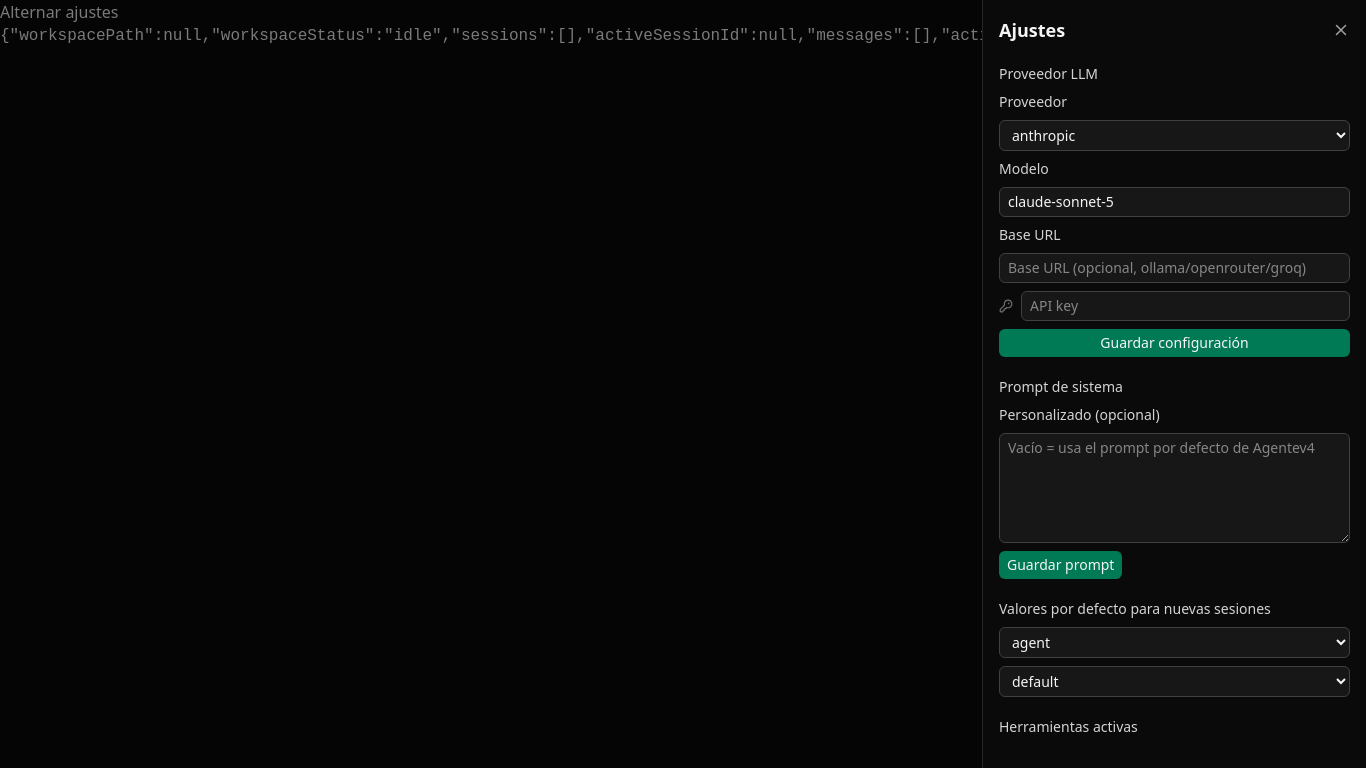
Test: provider settings save flow › keeps the draft and allows a retry when saving fails
Replace the text in the field labelled "Modelo" with "model-under-test" at [1174, 202], box [999,187,1350,217]
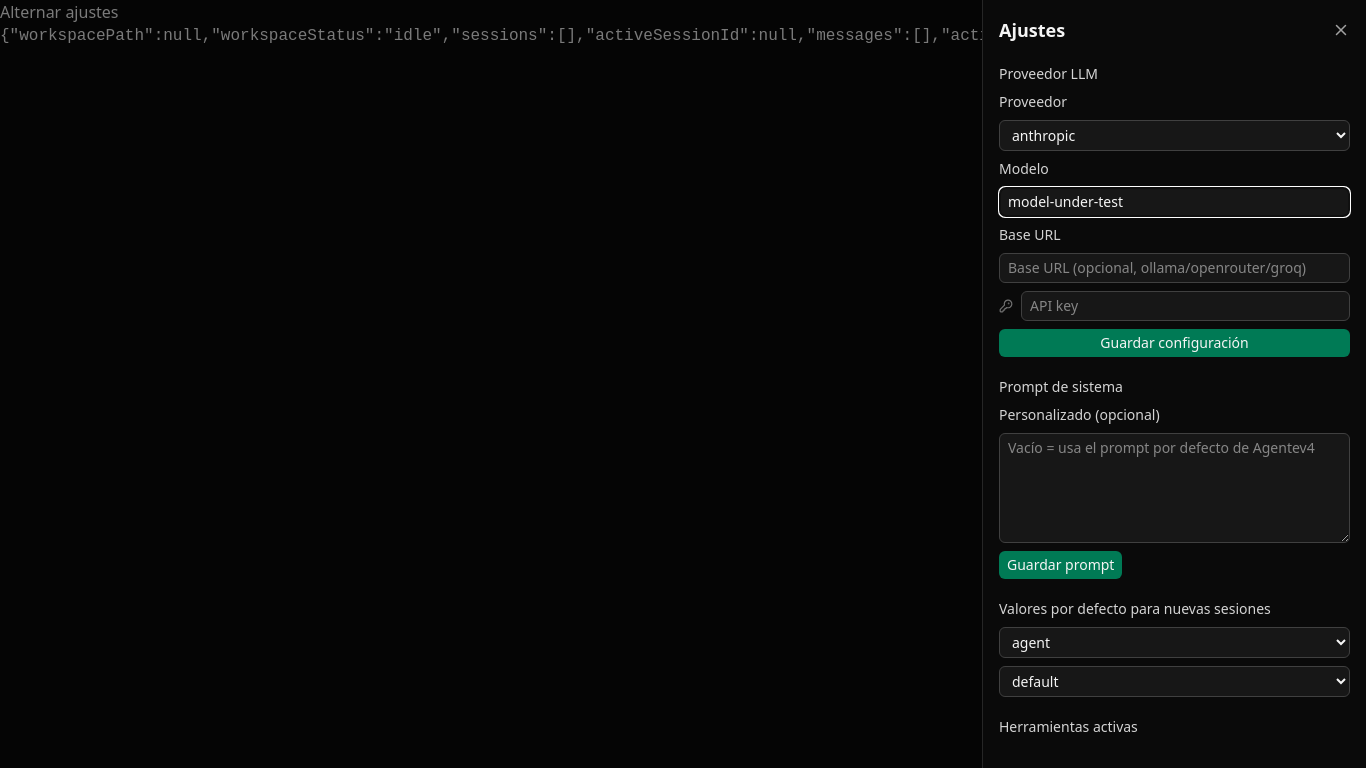
Click the button "Guardar configuración" at [1174, 343], box [999,329,1350,357]
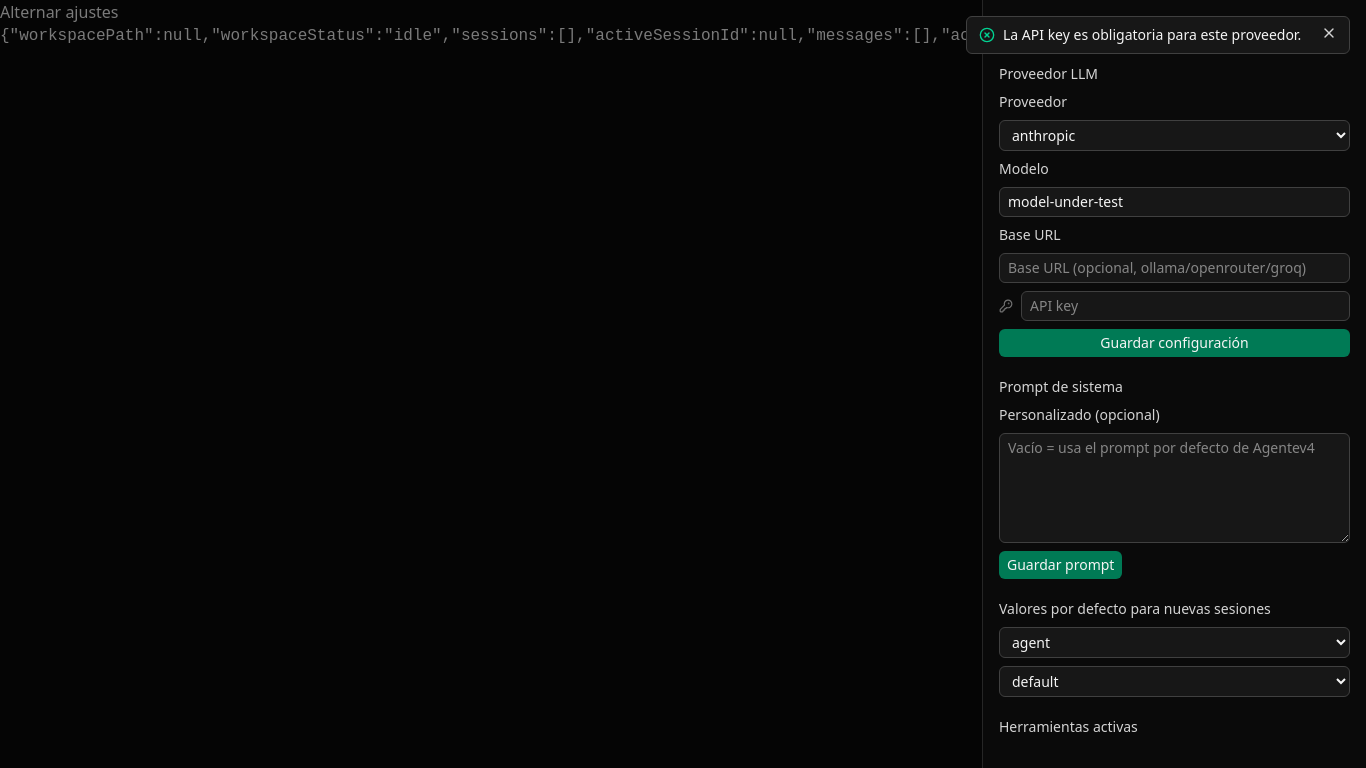
Expected: the text "Configuración guardada correctamente" is not shown
Expected: the message shows "La API key es obligatoria", [1003,25,1301,44]
Type "sk-retry-secret" into the password field labelled "API key" at [1186, 306], box [1021,291,1350,321]
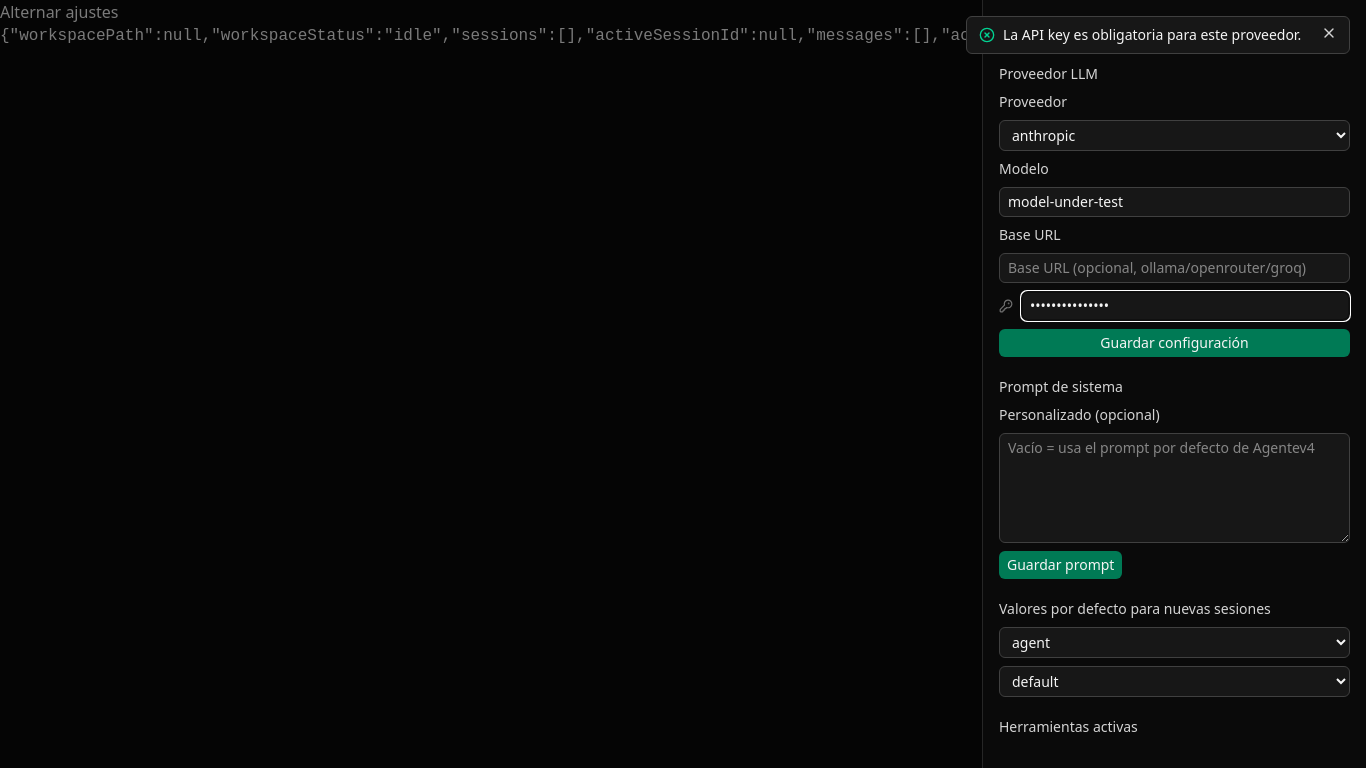
Click the button "Guardar configuración" at [1174, 343], box [999,329,1350,357]
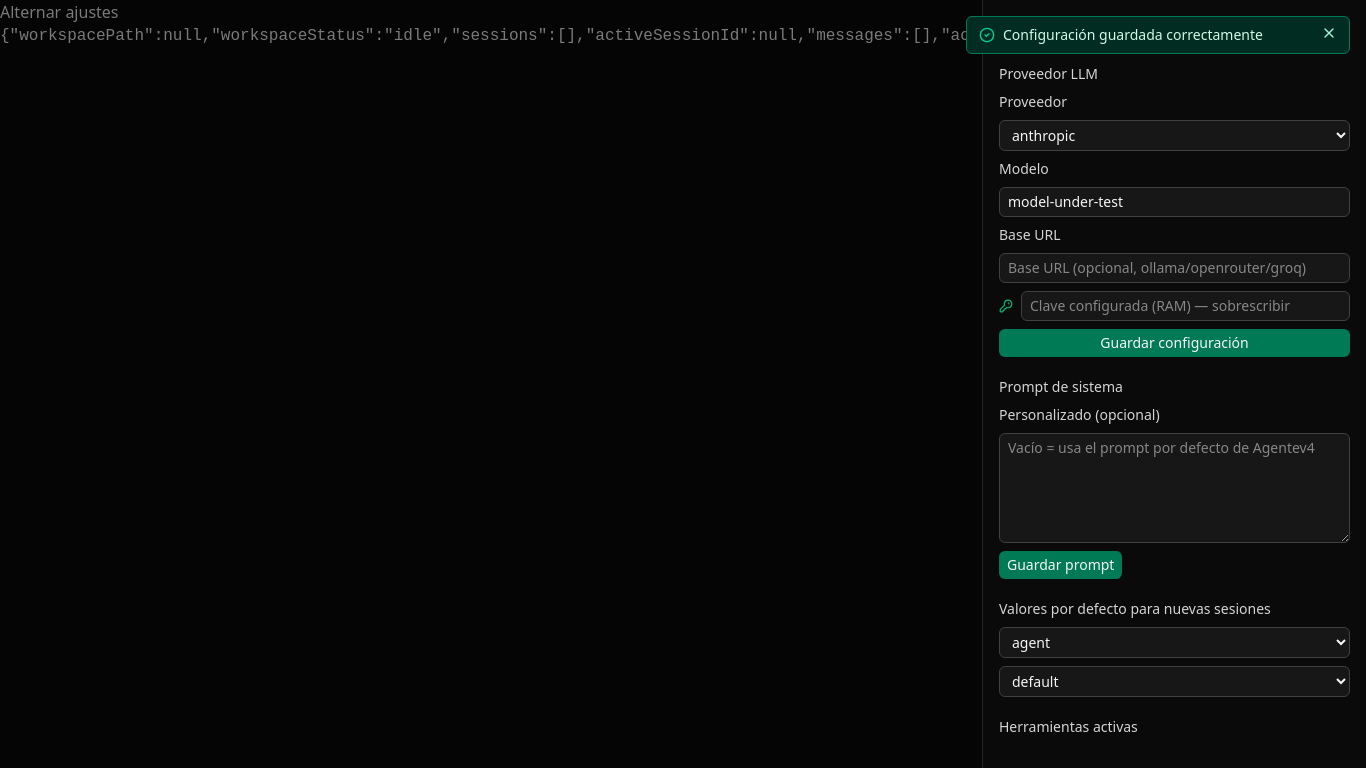
Expected: the message reads "Configuración guardada correctamente", [1003,25,1263,44]
